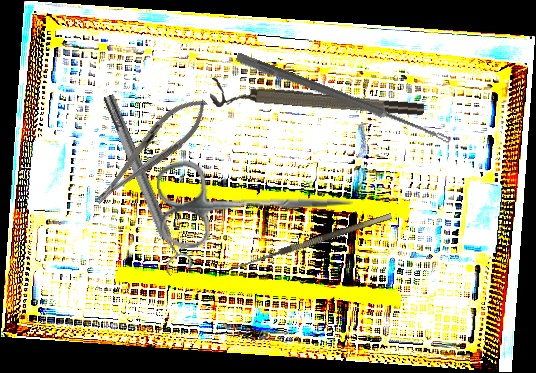Fixation Ring: (95, 89, 195, 278), (209, 77, 425, 129)
Hook Surgical: (227, 212, 396, 281)
Iris Scissors: (156, 154, 355, 250)
Needle Holder: (83, 86, 218, 216)
Surgical Spoon: (234, 52, 453, 145)
